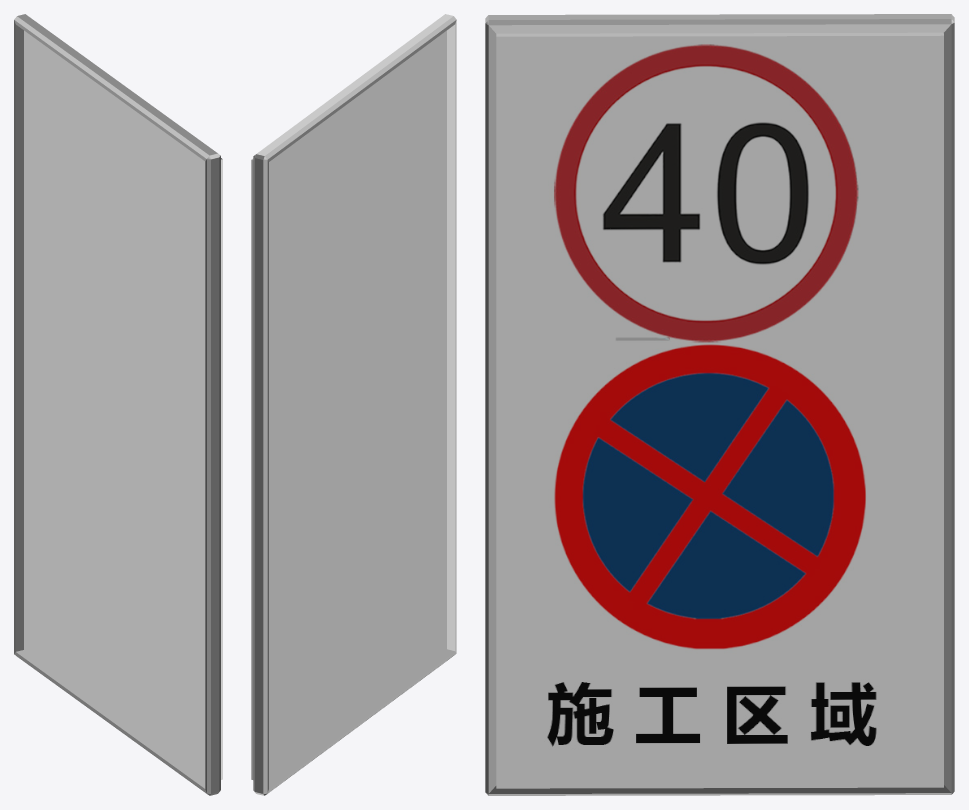
3 views of the same model, side by side, from view 1: azimuth 30°, elevation 25°; view 2: azimuth 150°, elevation 25°; view 3: azimuth 270°, elevation 25° (orthographic). The views are drawn at different scales.
Parts seen in each view (by area): view 1: model15; view 2: model15; view 3: model15.
Part boxes in pixels (x1,y1,x2,y2): model15: [14, 14, 222, 795]; model15: [251, 14, 456, 795]; model15: [485, 14, 954, 795].
Size of the model in its own units: 0.0843 by 2.46 by 1.35.
Materials: 2 (1 with a texture image).
